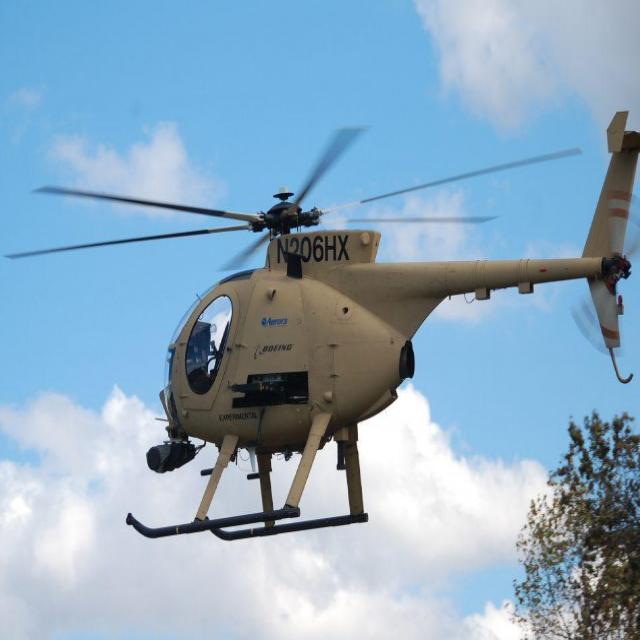helicopter: (11, 127, 640, 538)
